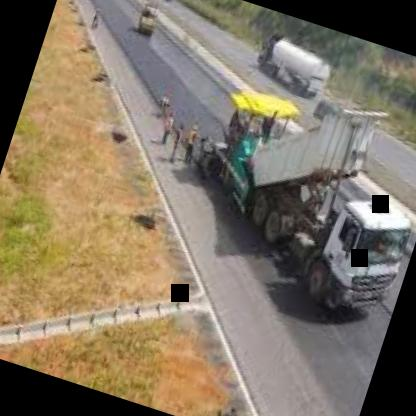car: (219, 8, 351, 116)
